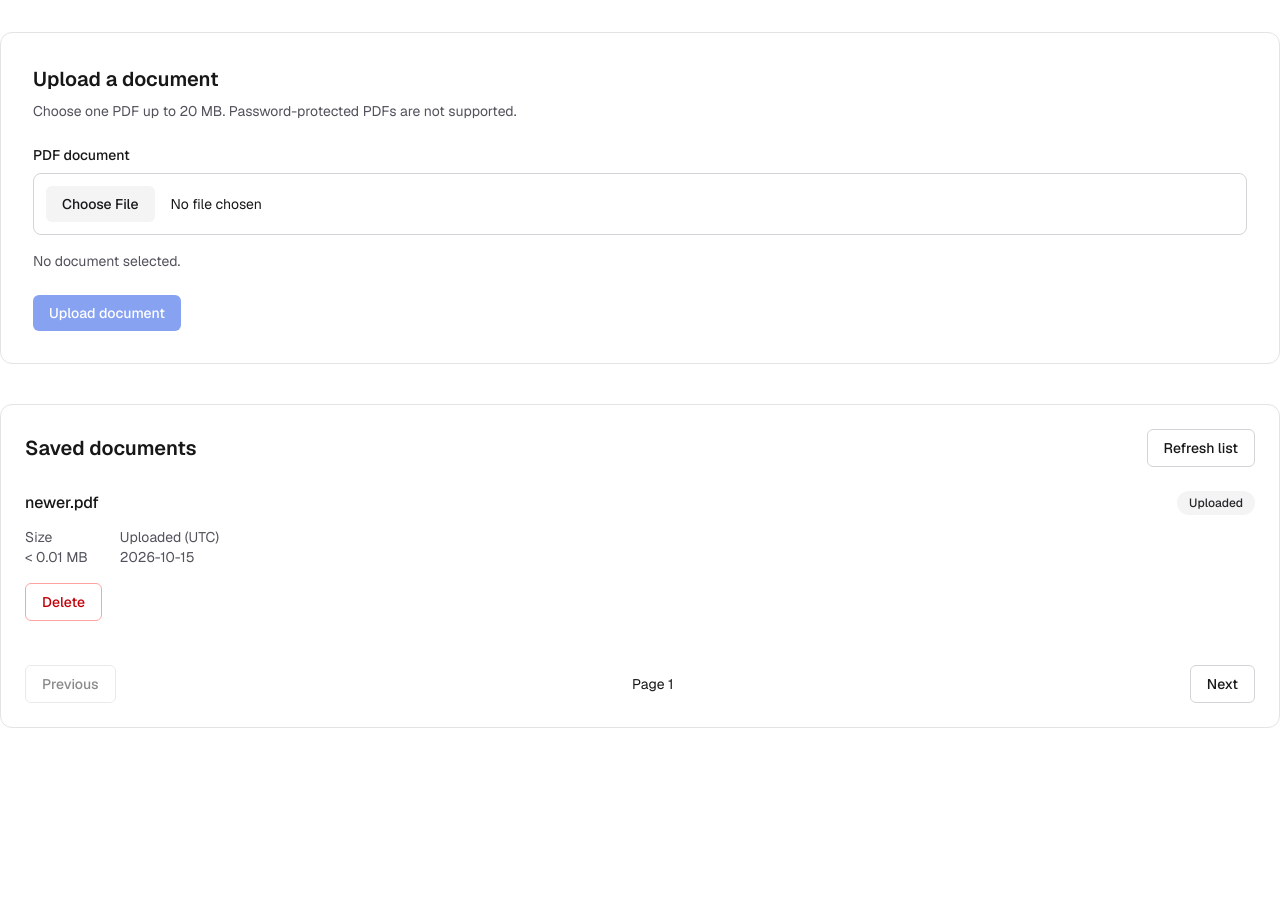
Test: steps back a page after deleting the last document on a later page
Check: the heading "newer.pdf" is shown, box [25,491,99,515]
Click the button "Next" at coordinates (1222, 684), box [1190,665,1255,703]
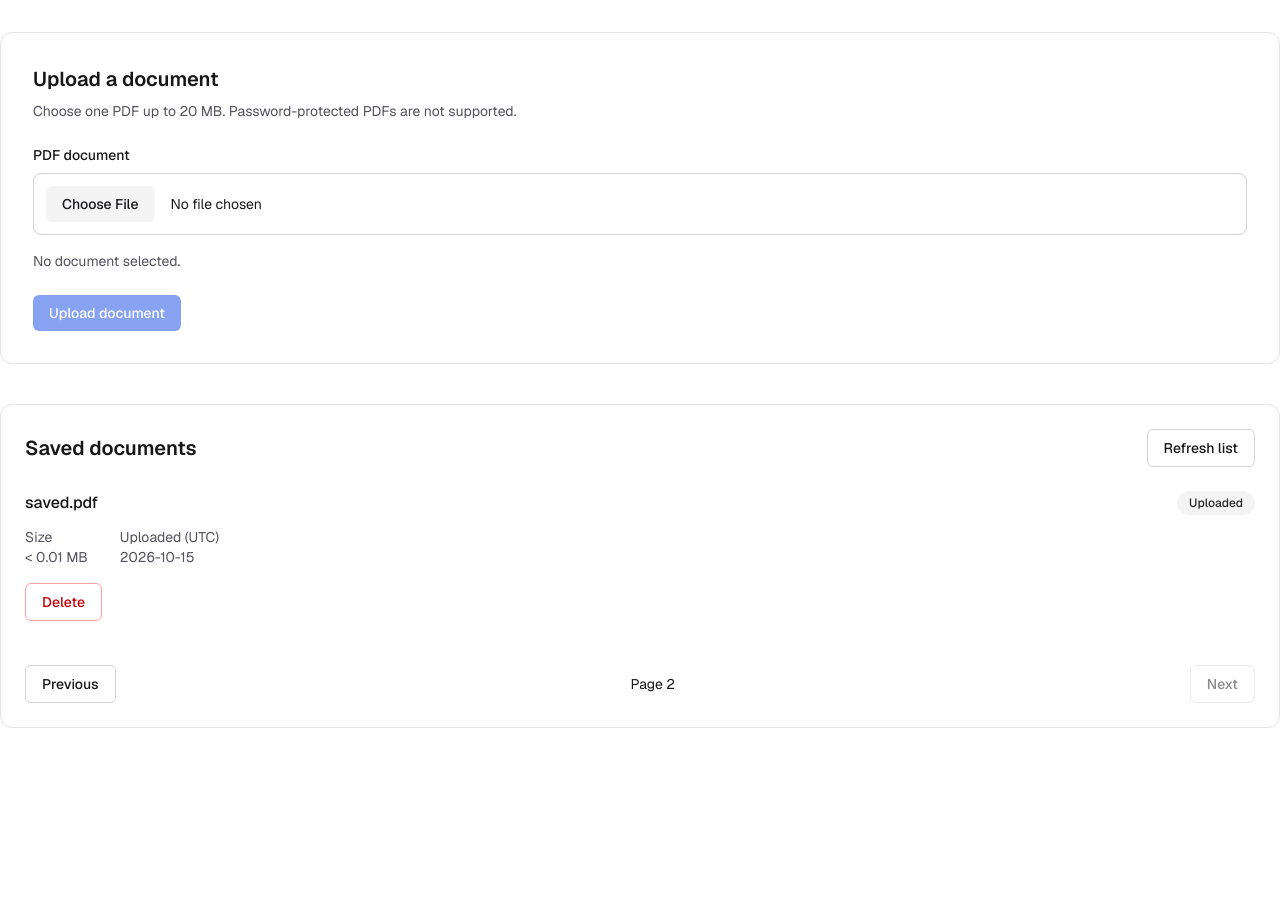
Click the button with aria-label "Delete saved.pdf" at coordinates (64, 602), box [25,583,102,621]
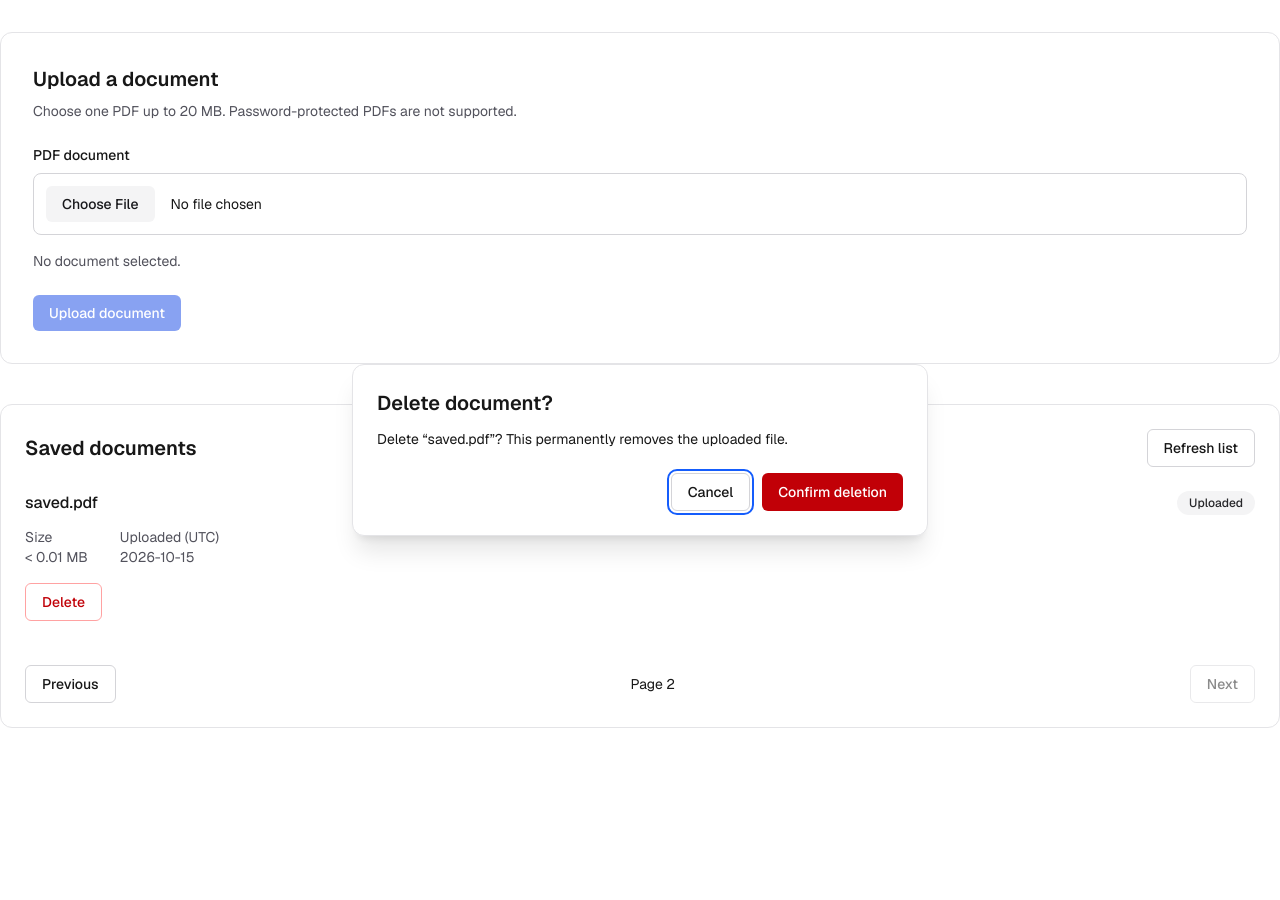
Click the button "Confirm deletion" at coordinates (833, 492), box [762,473,903,511]
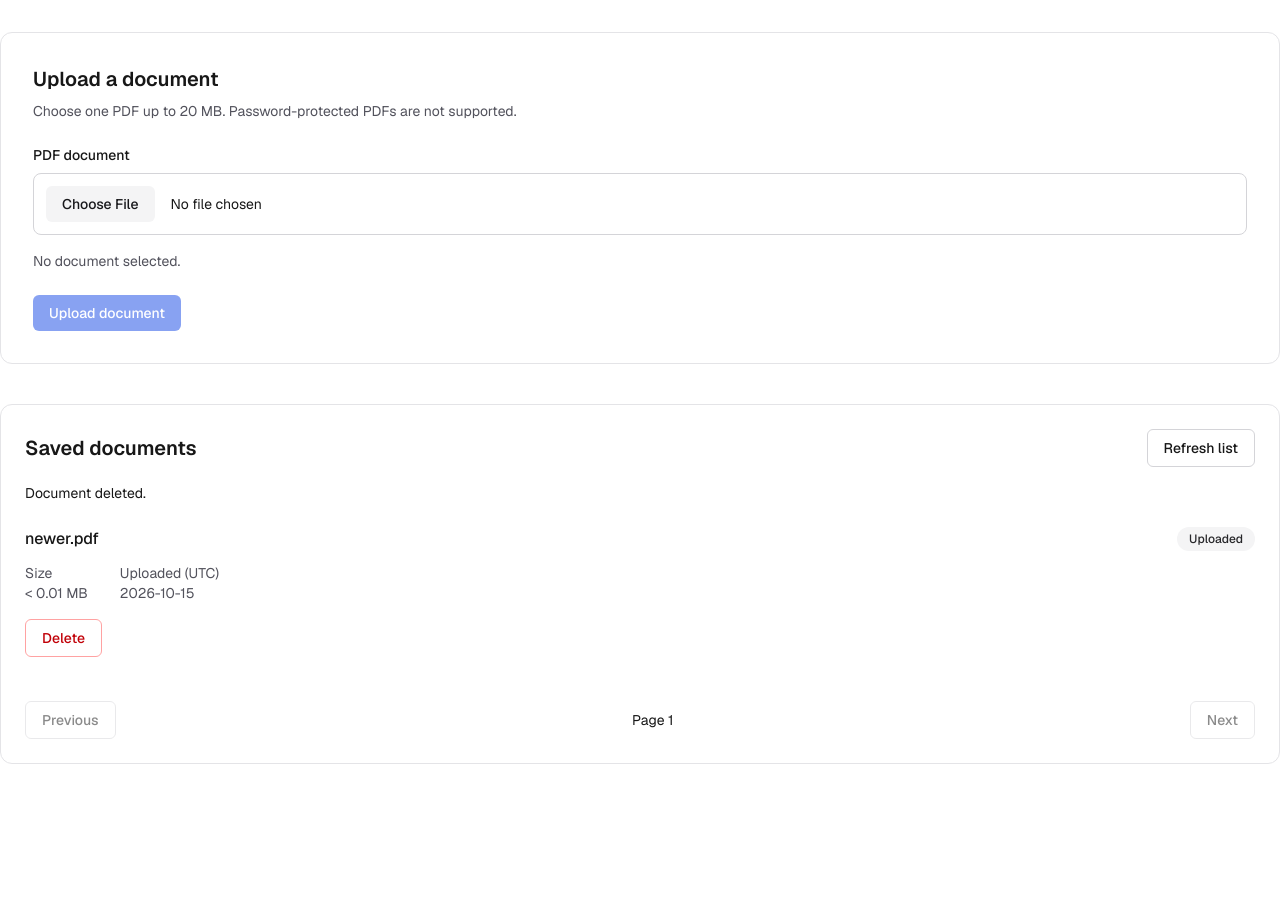
Check: the button "Next" is disabled, box [1190,701,1255,739]
Check: the heading "newer.pdf" is shown, box [25,527,99,551]
Check: the text "Page 1" is shown, box [632,710,673,730]
